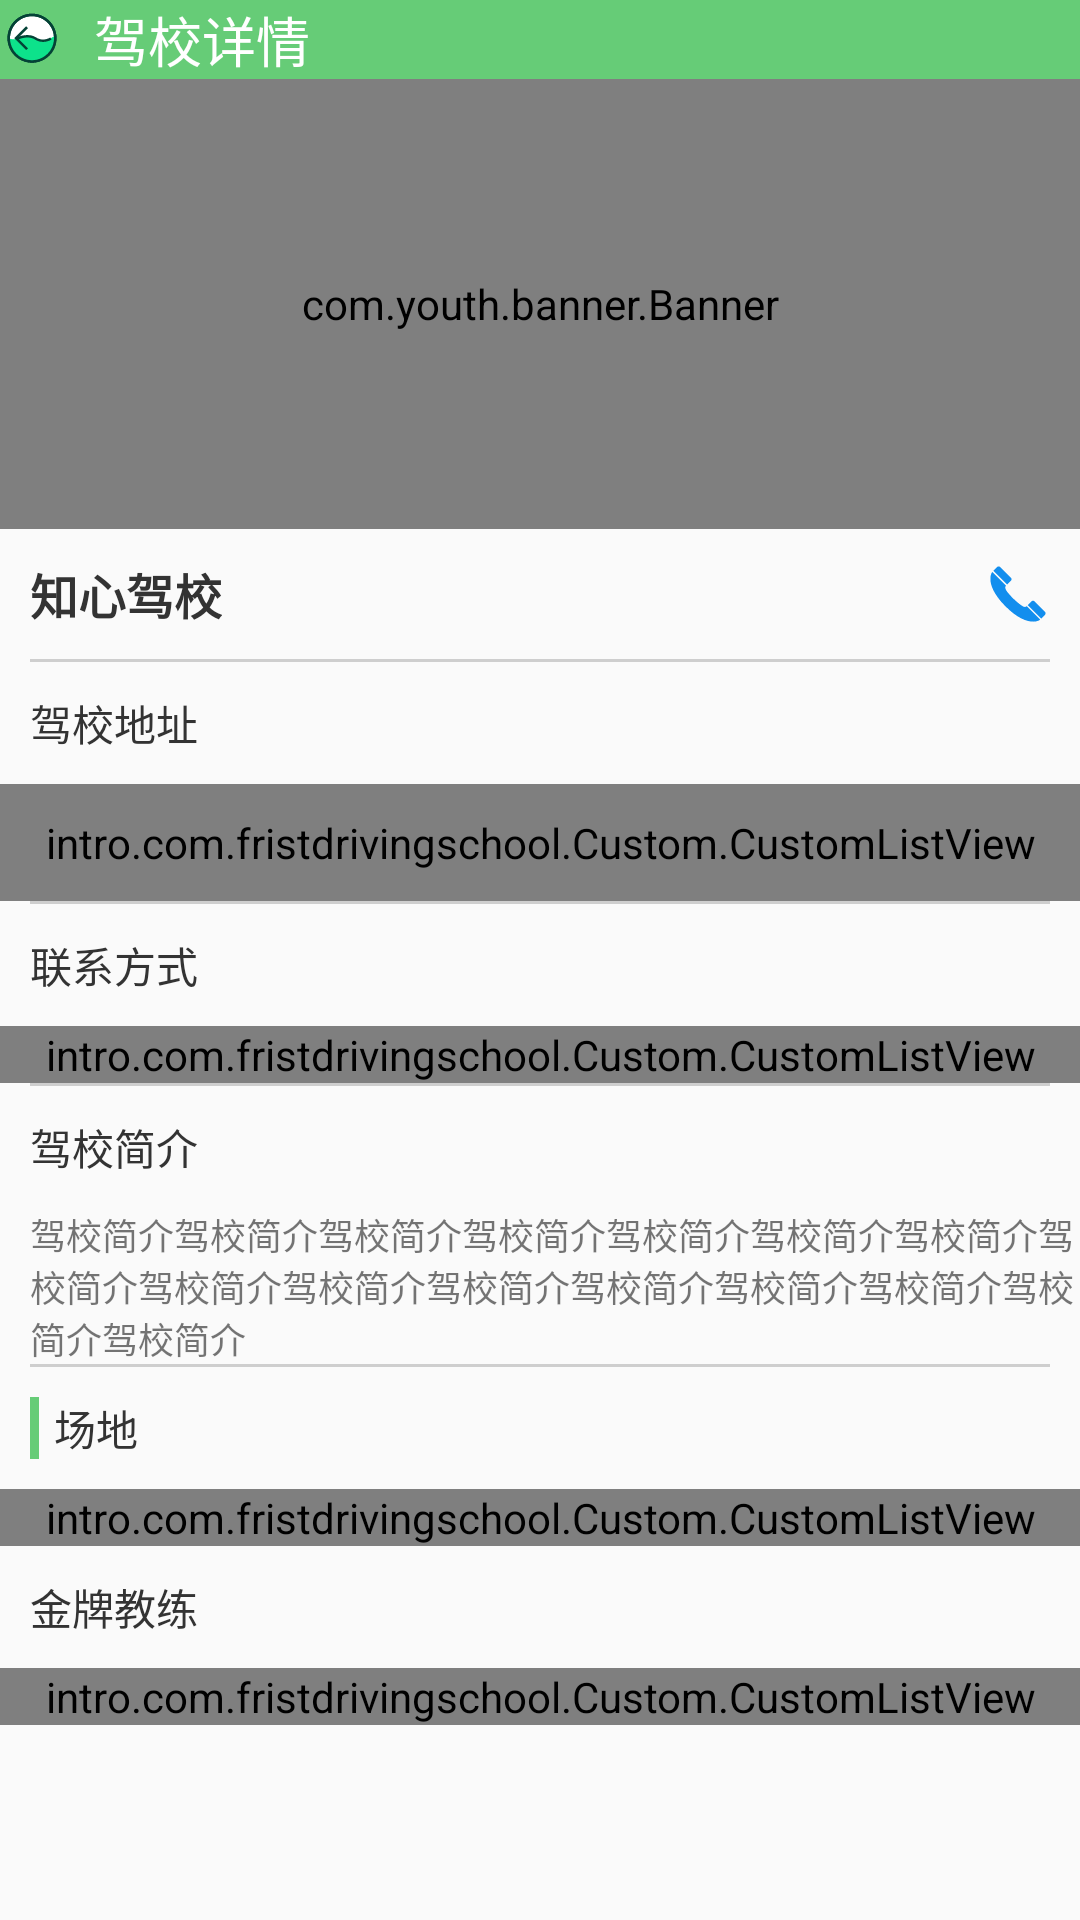

Where icons sit on this 1080×1920 app screen, as box(x1, y1, x2, y2):
phone samll: box(990, 566, 1046, 622)
